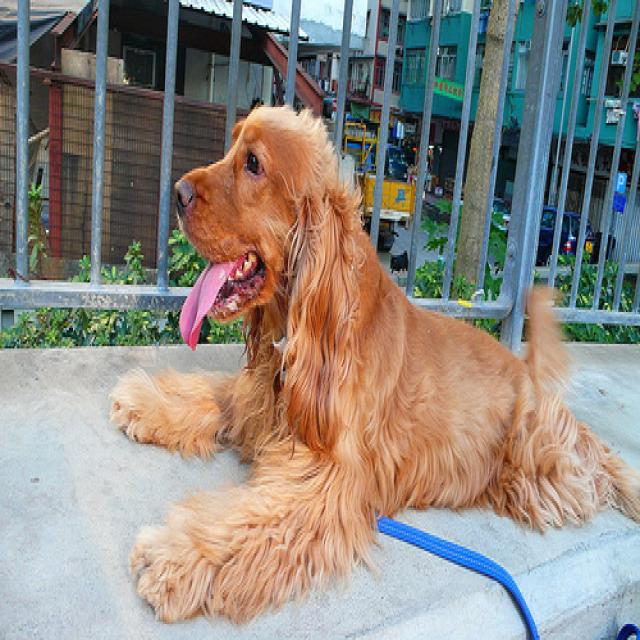dog-english_cocker_spaniel: (100, 82, 637, 626)
